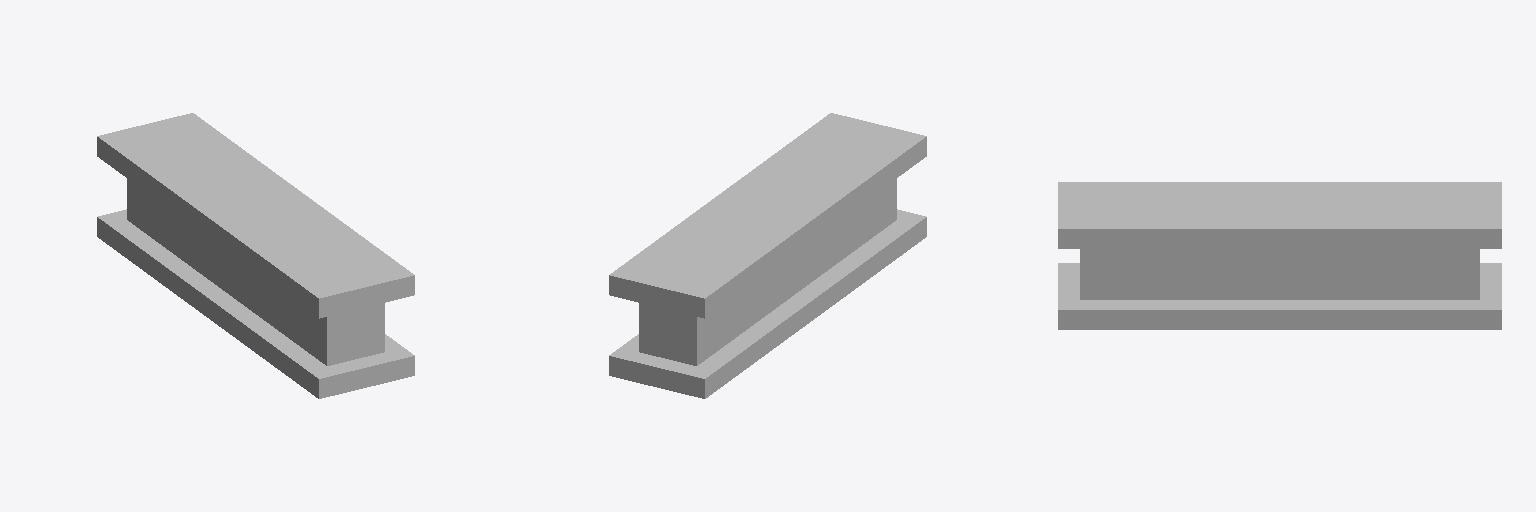
Rendered from detail-beam.obj.
3 views of the same model, side by side, from view 1: azimuth 30°, elevation 25°; view 2: azimuth 150°, elevation 25°; view 3: azimuth 270°, elevation 25° (orthographic).
Parts seen in each view (by area): view 1: detail-beam; view 2: detail-beam; view 3: detail-beam.
Boxes of the visible parts, <box> form: detail-beam: <box>97,113,414,398</box>; detail-beam: <box>609,113,926,398</box>; detail-beam: <box>1058,182,1501,329</box>.
Bounding box in the file's own units: 0.25 × 0.25 × 1.